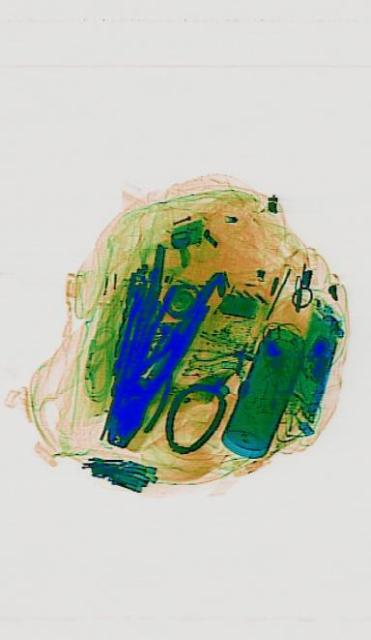Pliers: (83, 214, 222, 474), (118, 310, 195, 438)
